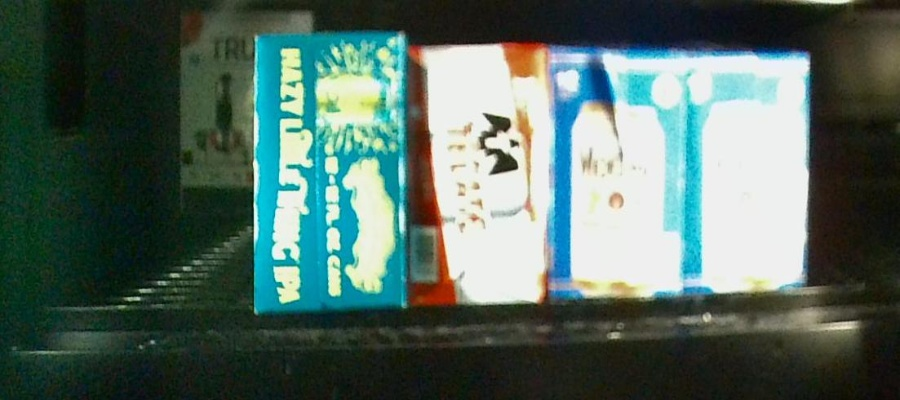bottle: (252, 30, 406, 311), (407, 42, 546, 310), (552, 41, 681, 299), (681, 43, 804, 293)
